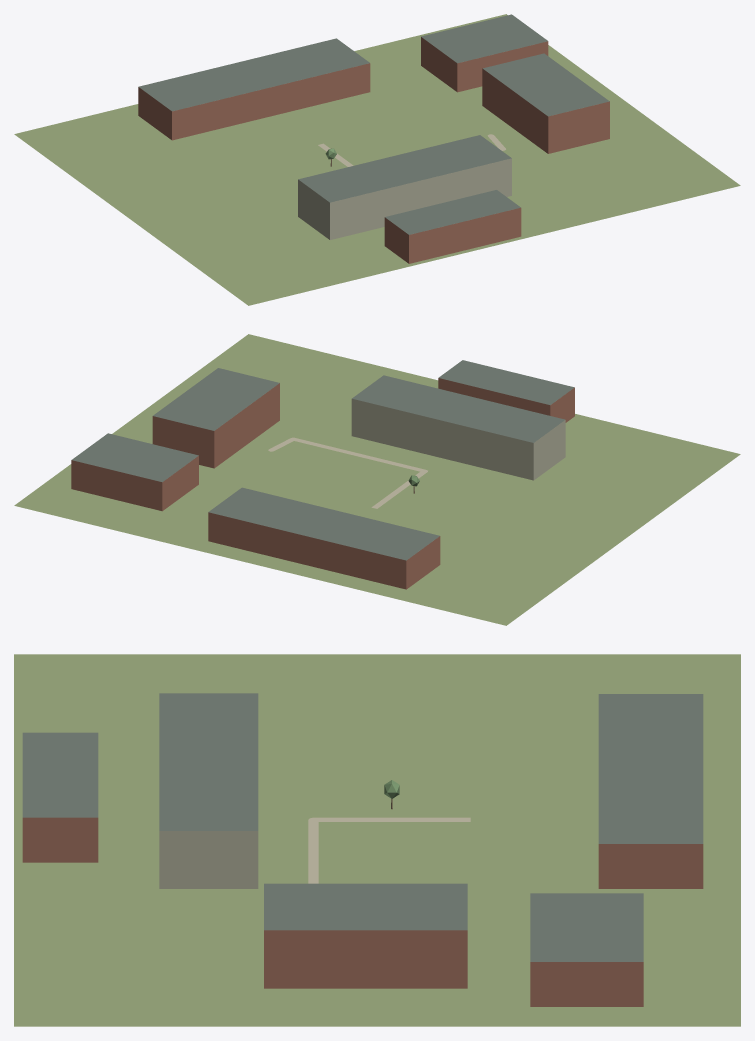
Rendered from upenn.glb.
The picture shows the model from 3 angles, top to bottom: view 1: azimuth 30°, elevation 25°; view 2: azimuth 150°, elevation 25°; view 3: azimuth 270°, elevation 25°; orthographic projection. The views are drawn at different scales.
Parts seen in each view (by area): view 1: Mobile terrain, Mobile roof, Mobile brick, Mobile stone; view 2: Mobile terrain, Mobile roof, Mobile brick, Mobile stone, Mobile paving; view 3: Mobile terrain, Mobile roof, Mobile brick, Mobile stone, Mobile paving.
Boxes of the visible parts, x1,y1,x2,y2 form: Mobile terrain: [14, 14, 740, 305]; Mobile roof: [138, 14, 609, 234]; Mobile brick: [138, 37, 609, 263]; Mobile stone: [298, 158, 511, 239]; Mobile terrain: [14, 334, 740, 625]; Mobile roof: [72, 360, 574, 560]; Mobile brick: [71, 378, 574, 589]; Mobile stone: [351, 399, 565, 480]; Mobile paving: [268, 437, 427, 508]; Mobile terrain: [14, 654, 740, 1026]; Mobile roof: [22, 693, 703, 961]; Mobile brick: [22, 817, 703, 1006]; Mobile stone: [159, 831, 258, 888]; Mobile paving: [308, 817, 470, 883].
Bounding box in the file's own units: 303 × 22.22 × 250.
